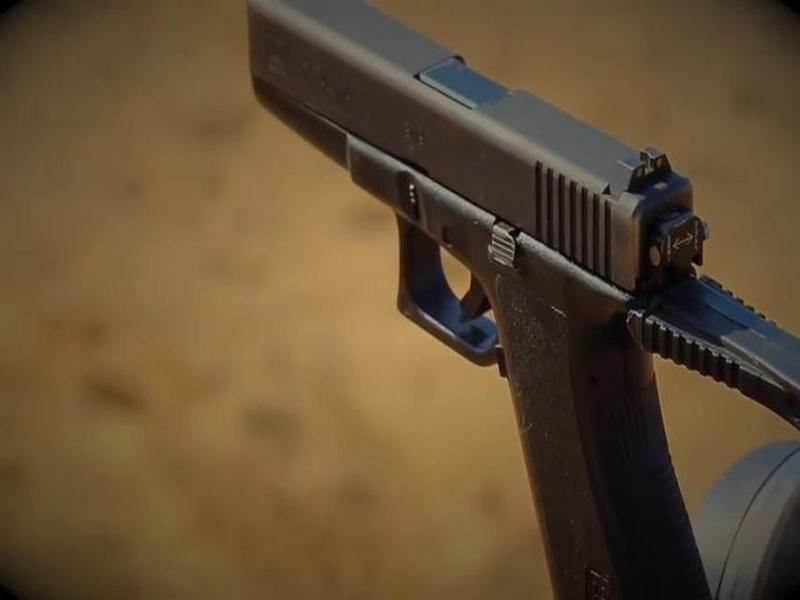Pistola: (232, 4, 709, 597)
